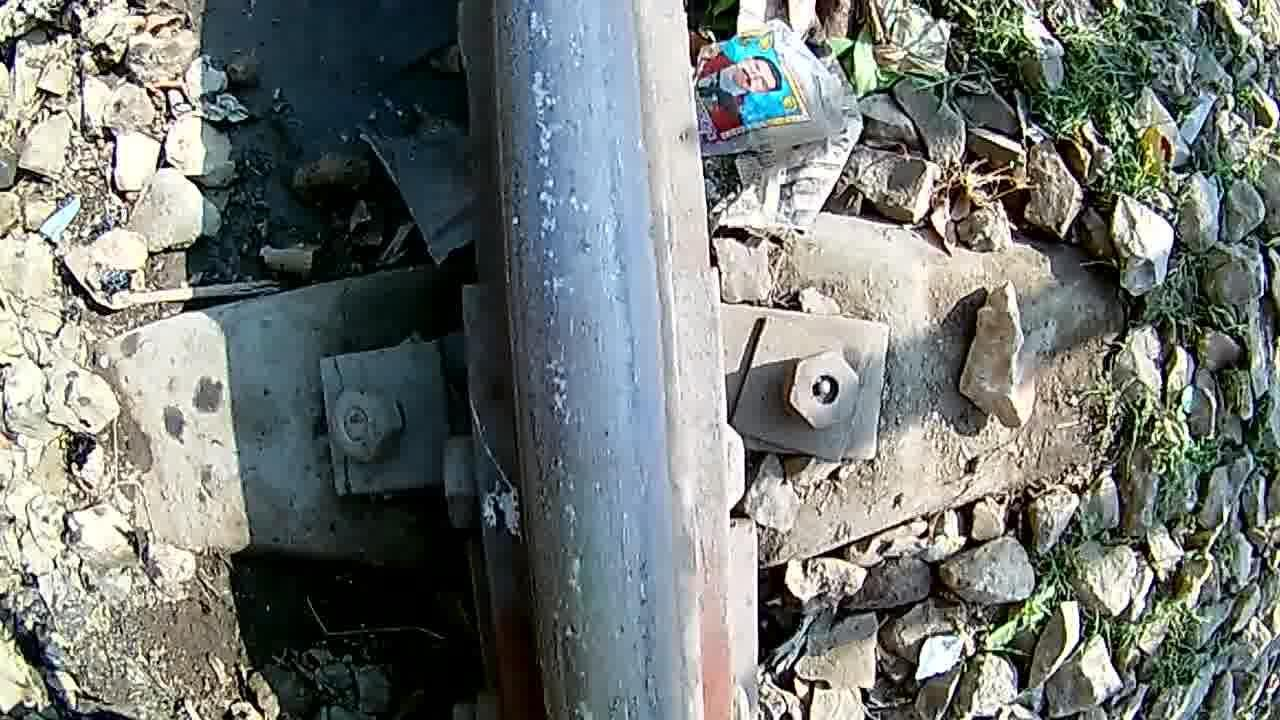crack: (487, 0, 685, 720)
